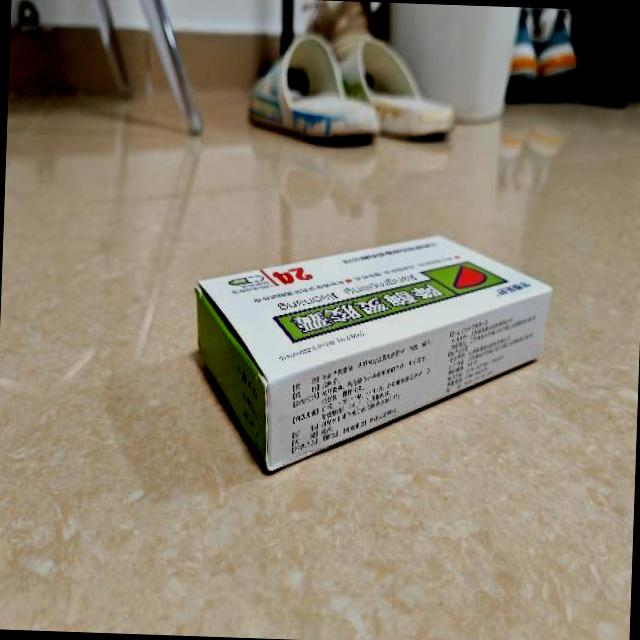box: (192, 224, 554, 478)
